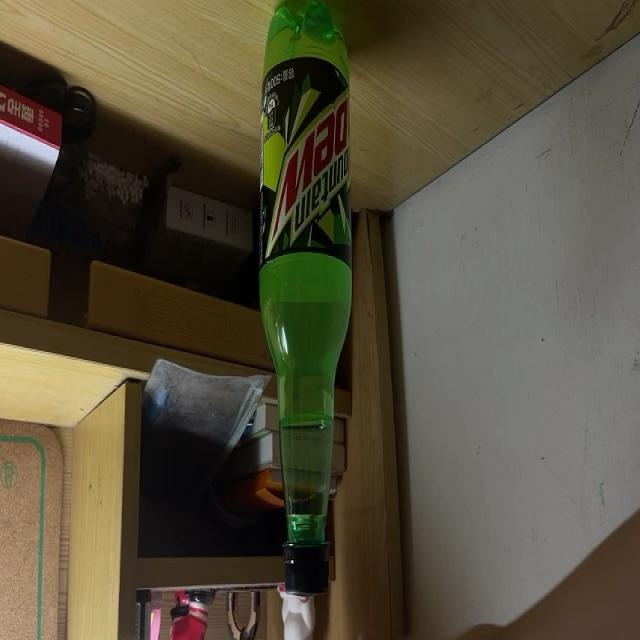Mountain-Dew: (262, 0, 354, 600)
